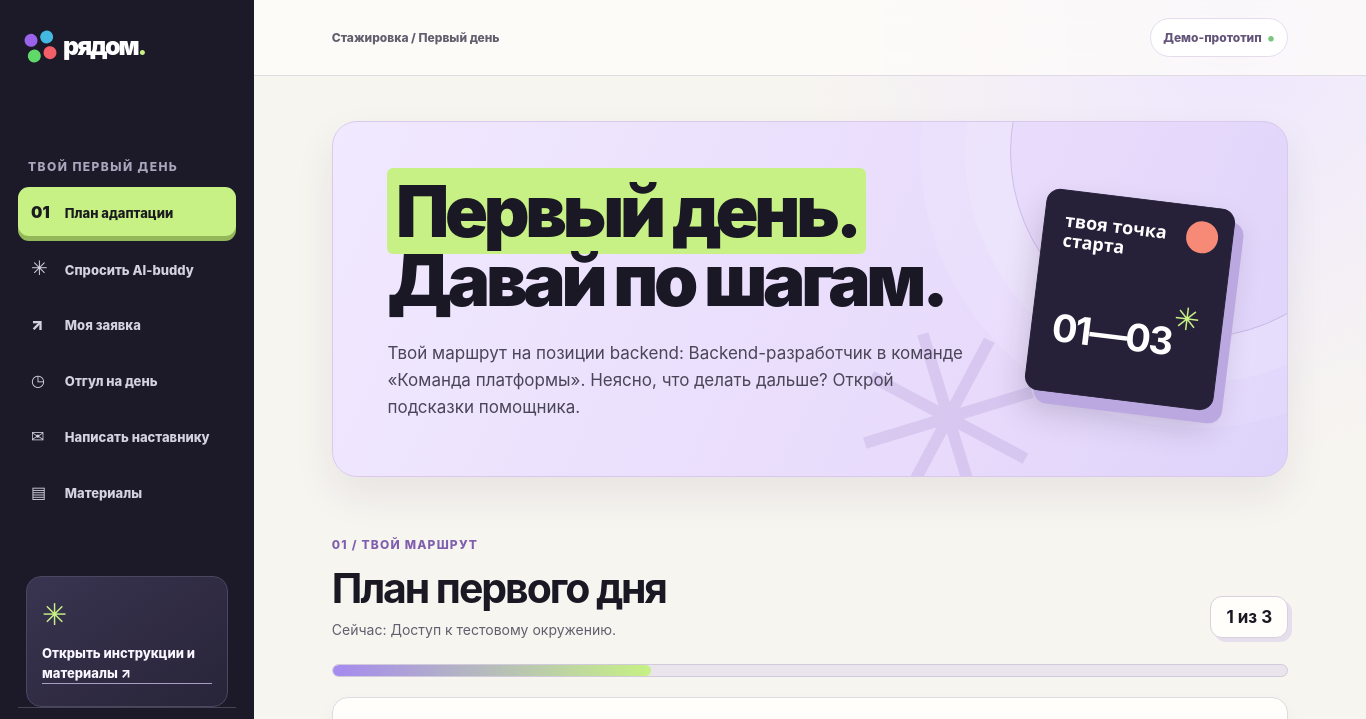
Scenario: keeps unavailable buddy citations disabled and shows uncited sources separately
Click the button "✳ Спросить AI-buddy" at coordinates (127, 268), box [18,243,236,292]
(page scrolled)
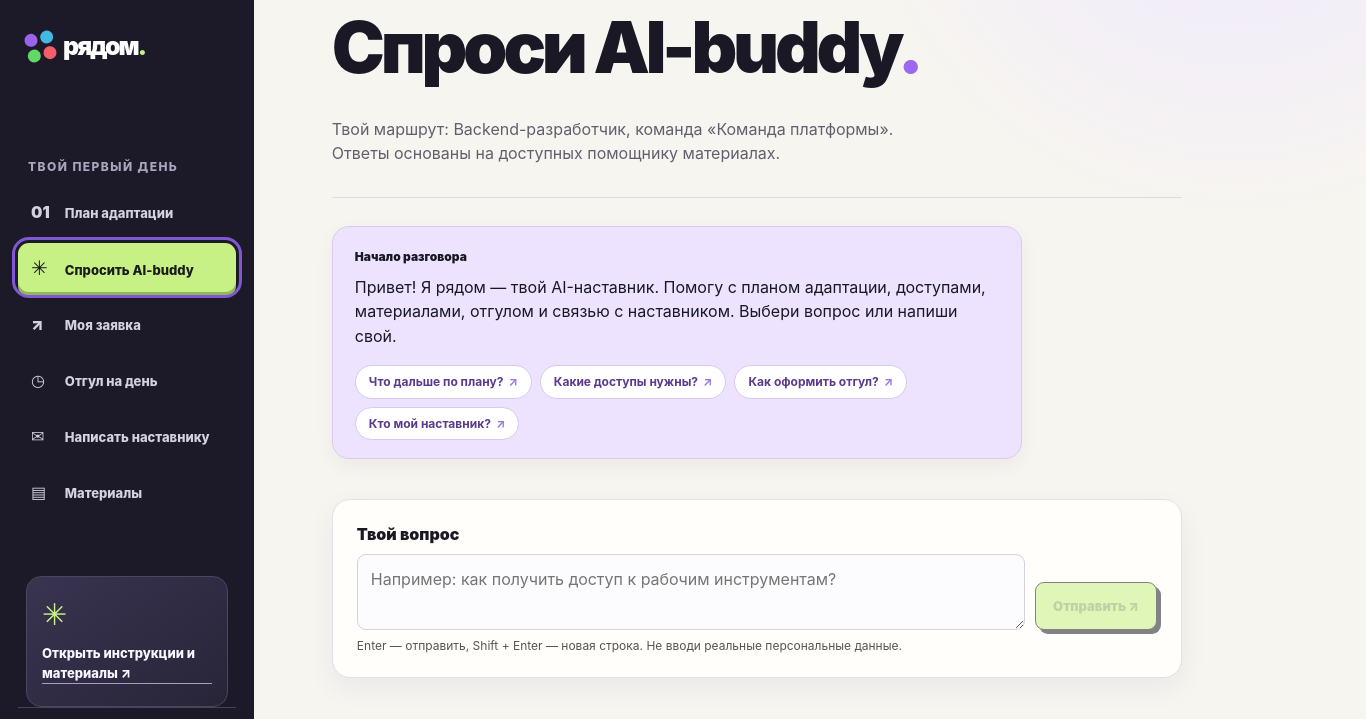
Type "Что читать?" into the text box labelled "Твой вопрос" at coordinates (691, 592), box [357,554,1025,630]
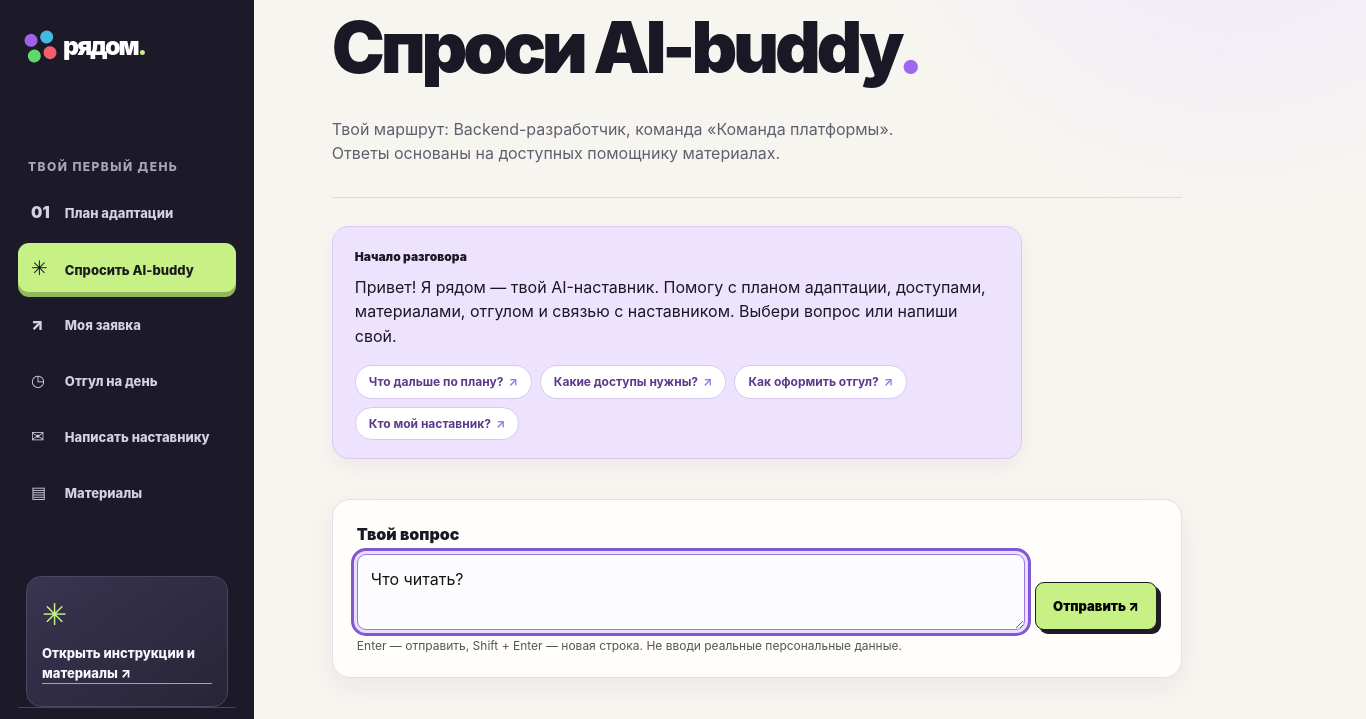
Click the button "Отправить ↗" at coordinates (1096, 606), box [1035,582,1157,630]
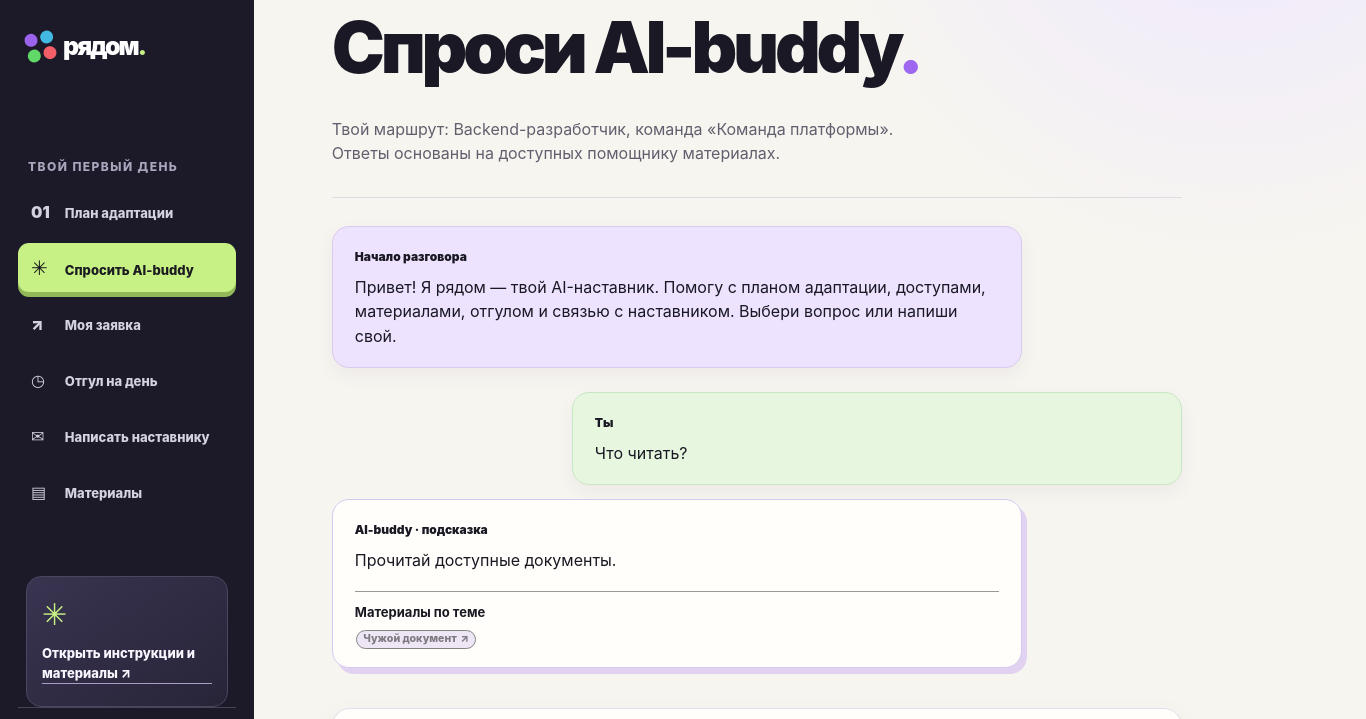
Expected: the text "Прочитай доступные документы." is shown, [355,550,616,570]
Expected: the text "Материалы по теме" is shown, [355,604,485,620]
Expected: the button with aria-label "Открыть источник: Чужой документ" is disabled, [356,630,476,648]
